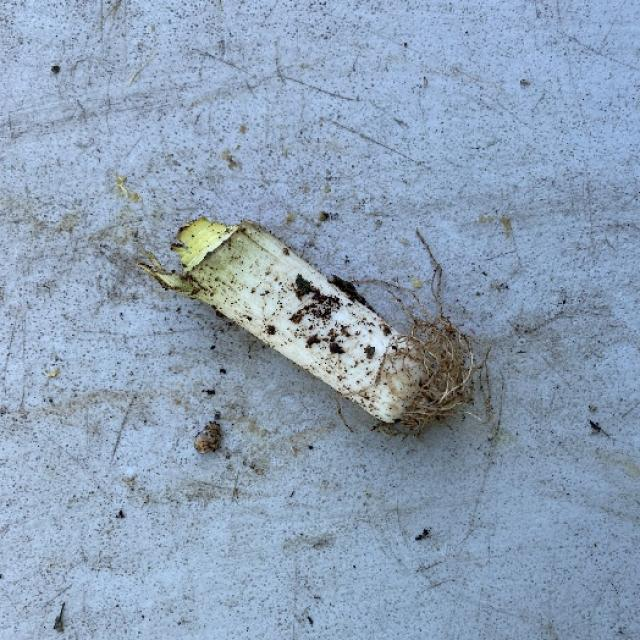organik: (148, 222, 454, 418)
